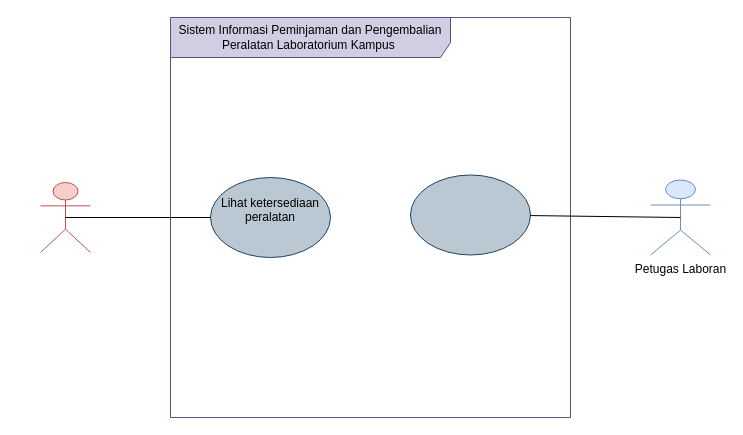
Some shapes in this 743 by 435 pixel diagram are drawn without their labels. The centre of each missing label's shape, as x and y in pixels:
"Kelola data peralatan" goes at point 470,214.
"Mahasiswa Cantik" goes at point 65,217.
